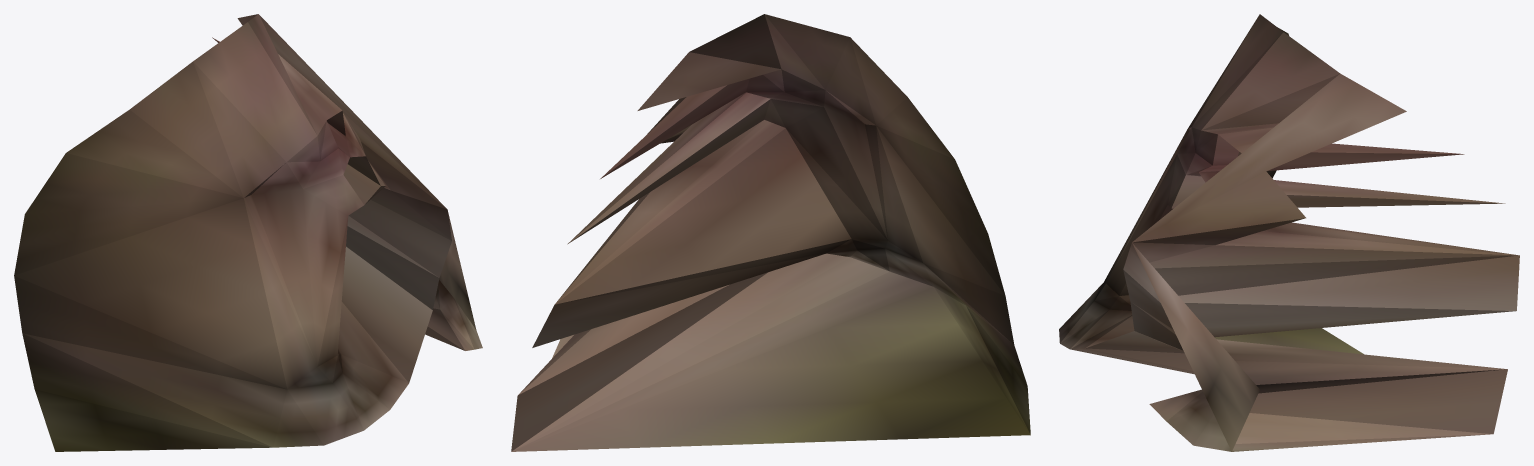
The model's file is real_18513.obj.
3 renders of one model, left to right at view 1: azimuth 30°, elevation 25°; view 2: azimuth 150°, elevation 25°; view 3: azimuth 270°, elevation 25°, orthographic. The views are drawn at different scales.
Size of the model in its own units: 96 by 76 by 92.5.
